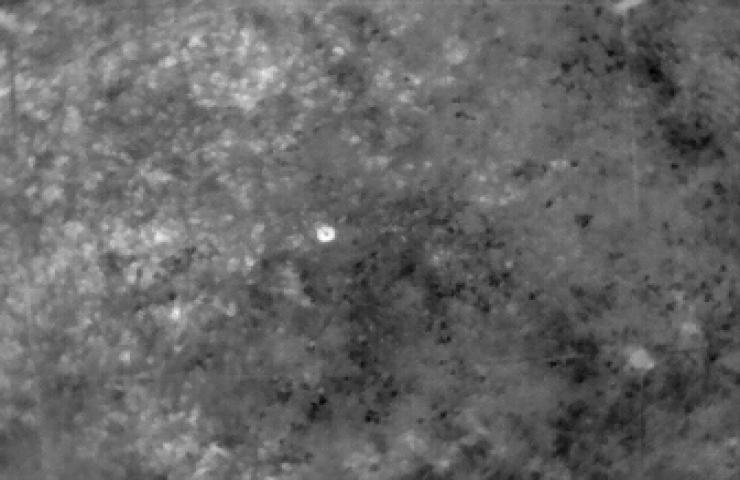landmines: (315, 225, 339, 245)
